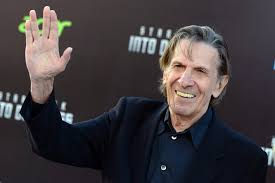LiveLong: (23, 5, 74, 82)
